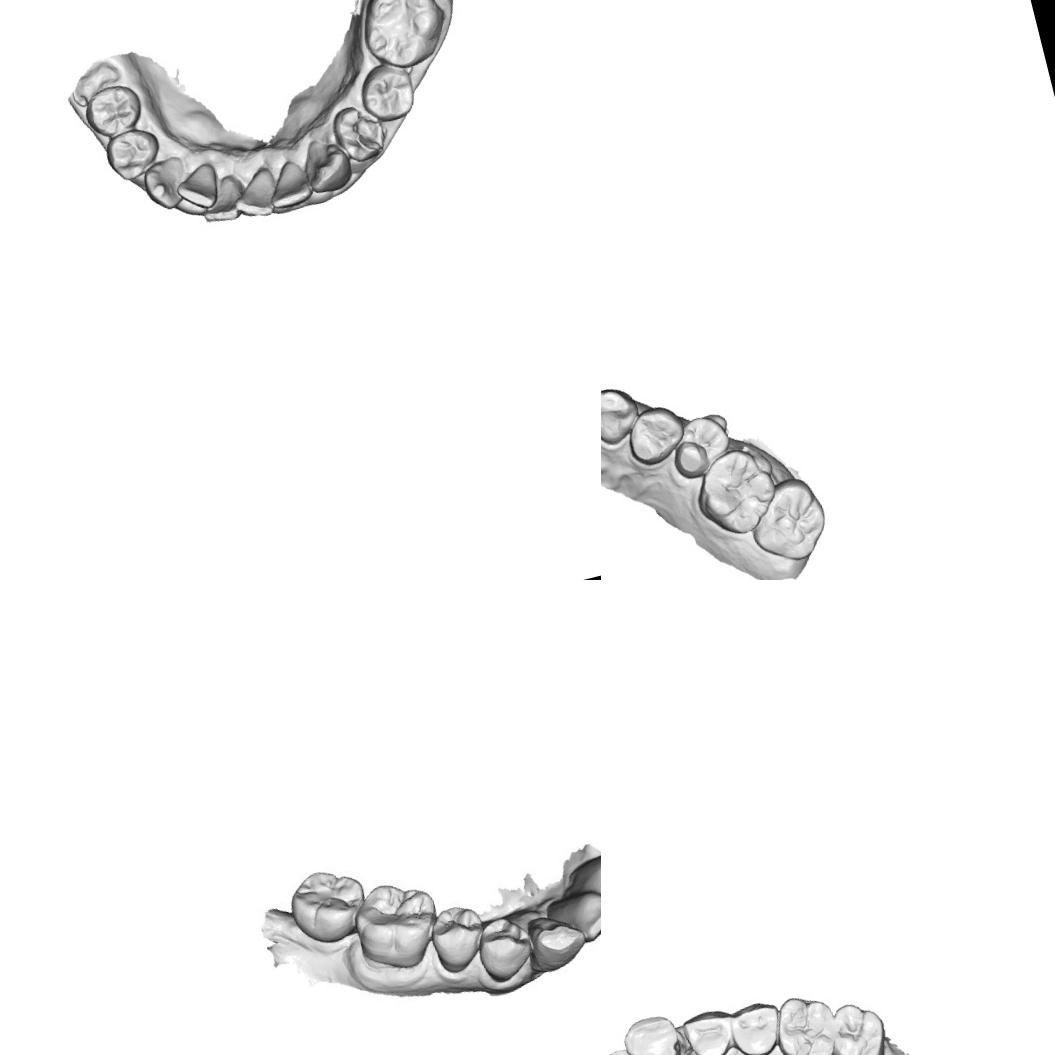canine: (515, 905, 590, 980), (617, 1009, 687, 1055), (601, 380, 645, 450), (302, 136, 352, 192), (140, 157, 187, 212)
incisor: (544, 881, 601, 948), (261, 157, 318, 214), (228, 169, 282, 223), (194, 178, 248, 228), (172, 166, 220, 214), (577, 856, 601, 920), (601, 1042, 651, 1055)
molar: (686, 440, 786, 543), (740, 467, 837, 571), (349, 874, 443, 973), (282, 860, 371, 951), (353, 0, 454, 73), (766, 987, 844, 1055), (822, 995, 894, 1055)
premolar: (419, 895, 487, 978), (664, 409, 736, 482), (467, 915, 538, 988), (620, 400, 690, 472), (329, 100, 392, 168), (102, 123, 167, 185), (356, 60, 419, 123), (725, 996, 787, 1055), (81, 80, 144, 138), (678, 1004, 738, 1055)
